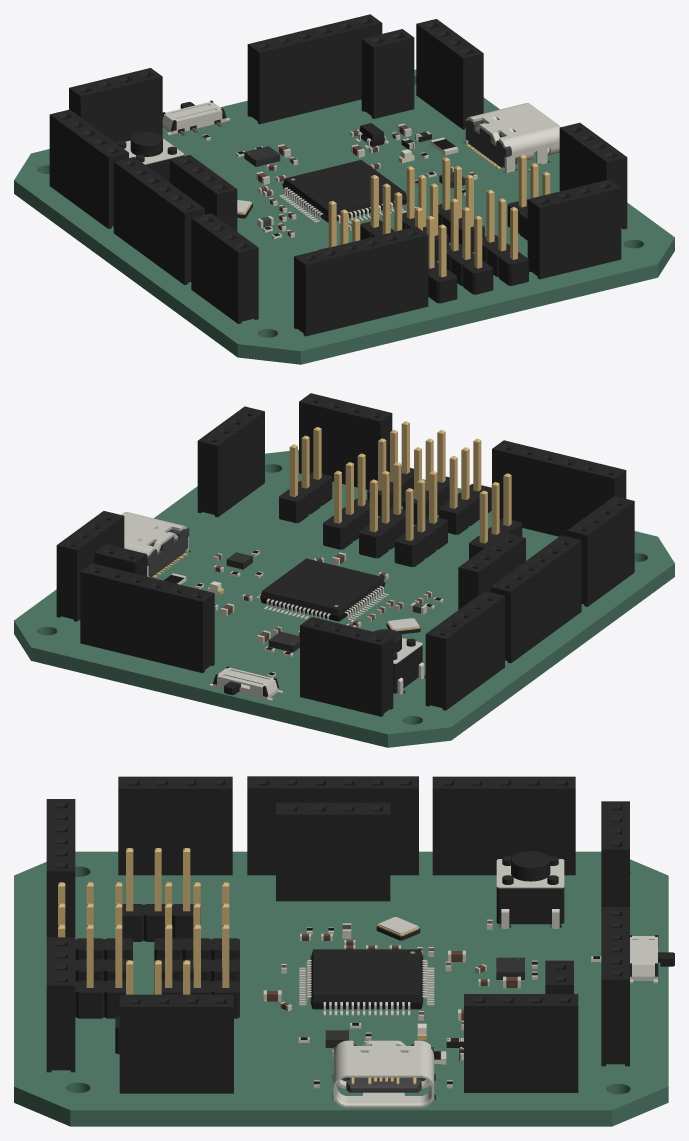
Rendered from Flight Controller 3D.glb.
3 renders of one model, top to bottom at view 1: azimuth 30°, elevation 25°; view 2: azimuth 150°, elevation 25°; view 3: azimuth 270°, elevation 25°, orthographic. The views are drawn at different scales.
Visible parts, largest first — view 1: =>[0:1:1:42], =>[0:1:1:21] (×6), =>[0:1:1:5] (×3), =>[0:1:1:17] (×8), =>[0:1:1:33], =>[0:1:1:9], =>[0:1:1:31], =>[0:1:1:23], =>[0:1:1:27], =>[0:1:1:39], =>[0:1:1:41], =>[0:1:1:29]; view 2: =>[0:1:1:42], =>[0:1:1:21] (×6), =>[0:1:1:5] (×3), =>[0:1:1:17] (×8), =>[0:1:1:33], =>[0:1:1:31], =>[0:1:1:9], =>[0:1:1:27], =>[0:1:1:39], =>[0:1:1:23]; view 3: =>[0:1:1:42], =>[0:1:1:21] (×6), =>[0:1:1:5] (×3), =>[0:1:1:17] (×8), =>[0:1:1:33], =>[0:1:1:31], =>[0:1:1:9], =>[0:1:1:27], =>[0:1:1:39], =>[0:1:1:23], =>[0:1:1:35], =>[0:1:1:41].
Part boxes in pixels (x1,y1,x2,y2): =>[0:1:1:42]: (14, 69, 674, 364); =>[0:1:1:21] (×6): (69, 19, 627, 323); =>[0:1:1:5] (×3): (113, 14, 428, 336); =>[0:1:1:17] (×8): (318, 154, 550, 303); =>[0:1:1:33]: (49, 109, 128, 228); =>[0:1:1:9]: (464, 103, 560, 172); =>[0:1:1:31]: (279, 160, 406, 224); =>[0:1:1:23]: (361, 29, 414, 118); =>[0:1:1:27]: (117, 131, 183, 182); =>[0:1:1:39]: (162, 100, 230, 135); =>[0:1:1:41]: (244, 146, 280, 166); =>[0:1:1:29]: (355, 123, 388, 148); =>[0:1:1:42]: (14, 450, 674, 747); =>[0:1:1:21] (×6): (56, 393, 634, 716); =>[0:1:1:5] (×3): (80, 440, 626, 673); =>[0:1:1:17] (×8): (279, 421, 522, 566); =>[0:1:1:33]: (425, 591, 504, 710); =>[0:1:1:31]: (256, 558, 388, 621); =>[0:1:1:9]: (121, 511, 189, 577); =>[0:1:1:27]: (373, 629, 424, 694); =>[0:1:1:39]: (209, 666, 282, 700); =>[0:1:1:23]: (94, 544, 146, 576); =>[0:1:1:42]: (14, 851, 668, 1126); =>[0:1:1:21] (×6): (46, 776, 629, 1093); =>[0:1:1:5] (×3): (46, 776, 629, 1066); =>[0:1:1:17] (×8): (58, 848, 239, 1054); =>[0:1:1:33]: (432, 776, 575, 875); =>[0:1:1:31]: (299, 949, 434, 1015); =>[0:1:1:9]: (333, 1040, 434, 1107); =>[0:1:1:27]: (496, 851, 564, 928); =>[0:1:1:39]: (630, 935, 674, 983); =>[0:1:1:23]: (545, 960, 573, 993); =>[0:1:1:35]: (376, 917, 420, 940); =>[0:1:1:41]: (496, 957, 524, 980).
Size of the model in its own units: 0.0544 by 0.012 by 0.0587.
